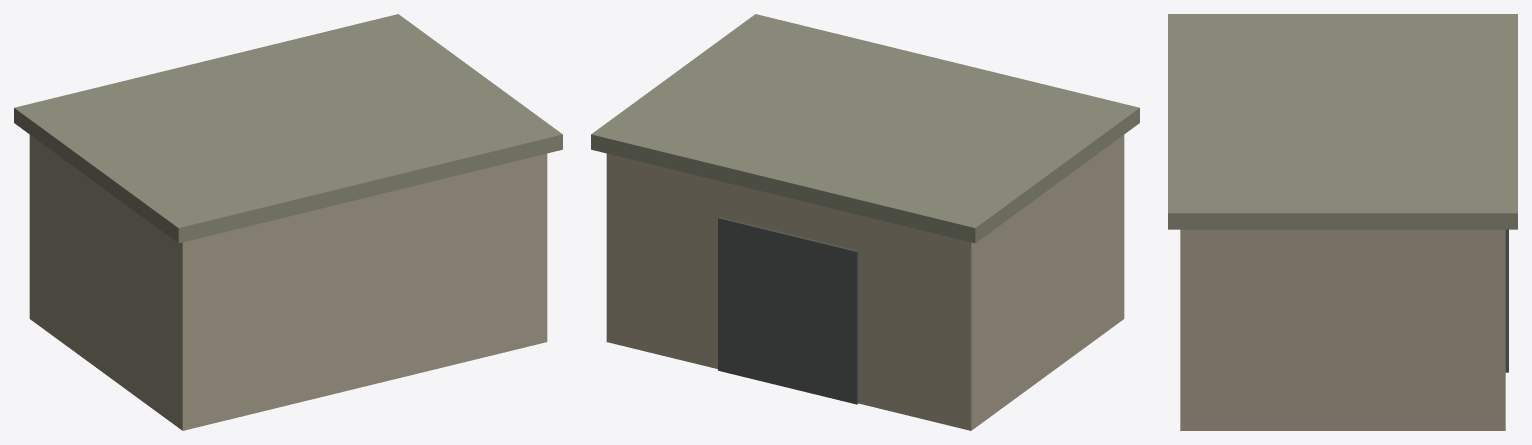
The model's file is warehouse.glb.
3 views of the same model, side by side, from view 1: azimuth 30°, elevation 25°; view 2: azimuth 150°, elevation 25°; view 3: azimuth 270°, elevation 25° (orthographic). The views are drawn at different scales.
Parts seen in each view (by area): view 1: warehouse-0, warehouse-1; view 2: warehouse-0, warehouse-1, warehouse-2; view 3: warehouse-1, warehouse-0, warehouse-2.
Part boxes in pixels (left/top/right/bottom): warehouse-0: left=29, top=135, right=547, bottom=430; warehouse-1: left=14, top=14, right=562, bottom=243; warehouse-0: left=606, top=135, right=1124, bottom=430; warehouse-1: left=591, top=14, right=1139, bottom=243; warehouse-2: left=718, top=217, right=858, bottom=404; warehouse-1: left=1168, top=14, right=1517, bottom=229; warehouse-0: left=1180, top=229, right=1505, bottom=430; warehouse-2: left=1505, top=229, right=1508, bottom=372.
Bounding box in the file's own units: 5.8 × 3.02 × 4.3.
